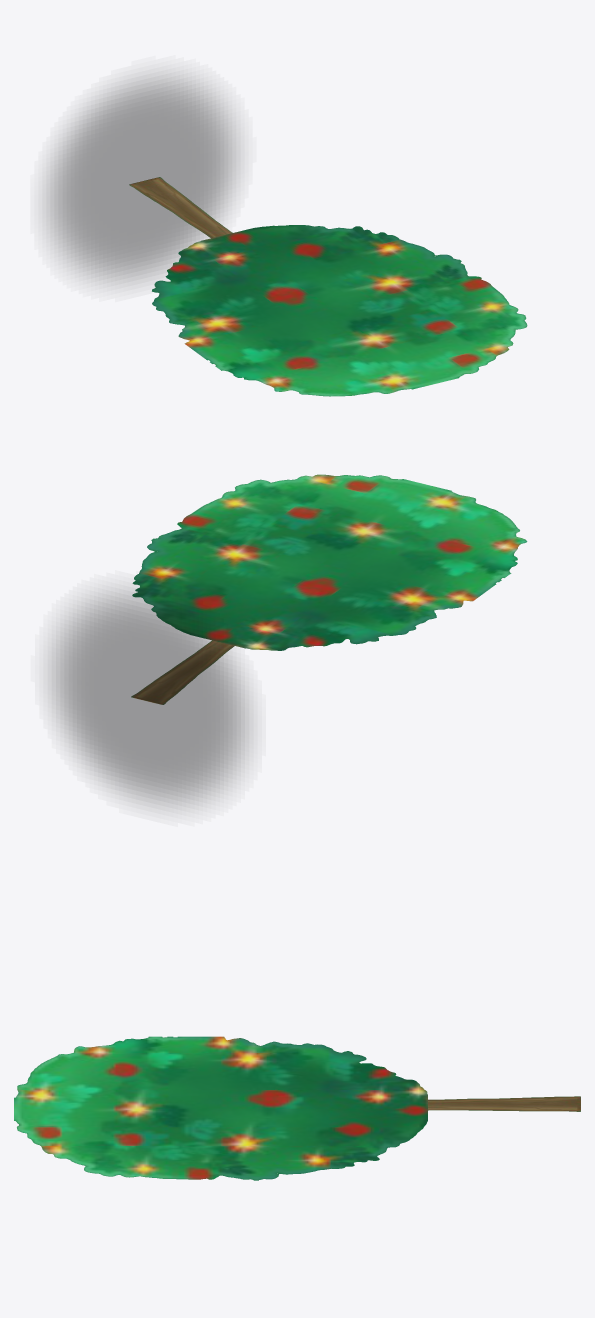
The model's file is prop_tree_small_ul.glb.
3 renders of one model, top to bottom at view 1: azimuth 30°, elevation 25°; view 2: azimuth 150°, elevation 25°; view 3: azimuth 270°, elevation 25°, orthographic. The views are drawn at different scales.
Visible parts, largest first — view 1: p265_6__billboard, shadow_small_no_box_ul; view 2: p265_6__billboard, shadow_small_no_box_ul; view 3: p265_6__billboard.
Part boxes in pixels (x1=…): p265_6__billboard: x1=129, y1=177, x2=527, y2=396; shadow_small_no_box_ul: x1=46, y1=74, x2=236, y2=283; p265_6__billboard: x1=131, y1=474, x2=527, y2=704; shadow_small_no_box_ul: x1=51, y1=590, x2=249, y2=807; p265_6__billboard: x1=14, y1=1036, x2=580, y2=1180.
Bounding box in the file's own units: 13.93 × 12.32 × 23.16.
Materials: 3 (3 with a texture image).
